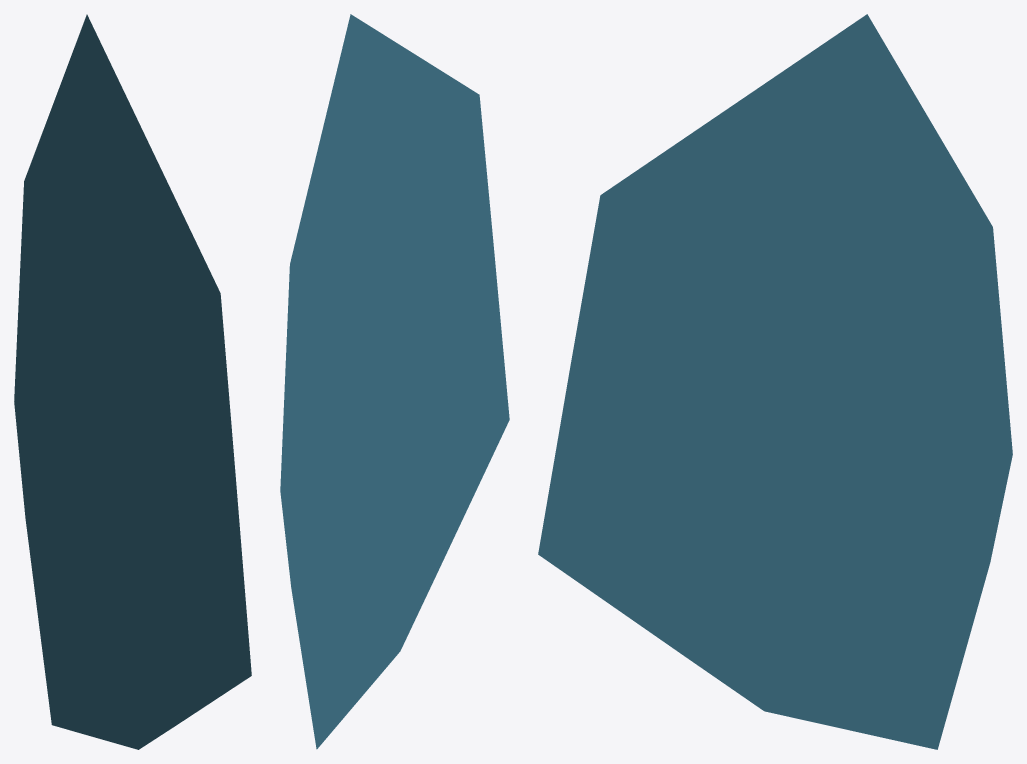
Rendered from NexusC_Cloth_28.fbx.
3 renders of one model, left to right at view 1: azimuth 30°, elevation 25°; view 2: azimuth 150°, elevation 25°; view 3: azimuth 270°, elevation 25°, orthographic. The views are drawn at different scales.
Parts seen in each view (by area): view 1: polySurface41; view 2: polySurface41; view 3: polySurface41.
Part boxes in pixels (bbox=[...]): polySurface41: bbox=[14, 14, 251, 749]; polySurface41: bbox=[280, 14, 509, 749]; polySurface41: bbox=[538, 14, 1012, 749].
Size of the model in its own units: 2.04e-05 by 53.91 by 31.52.
